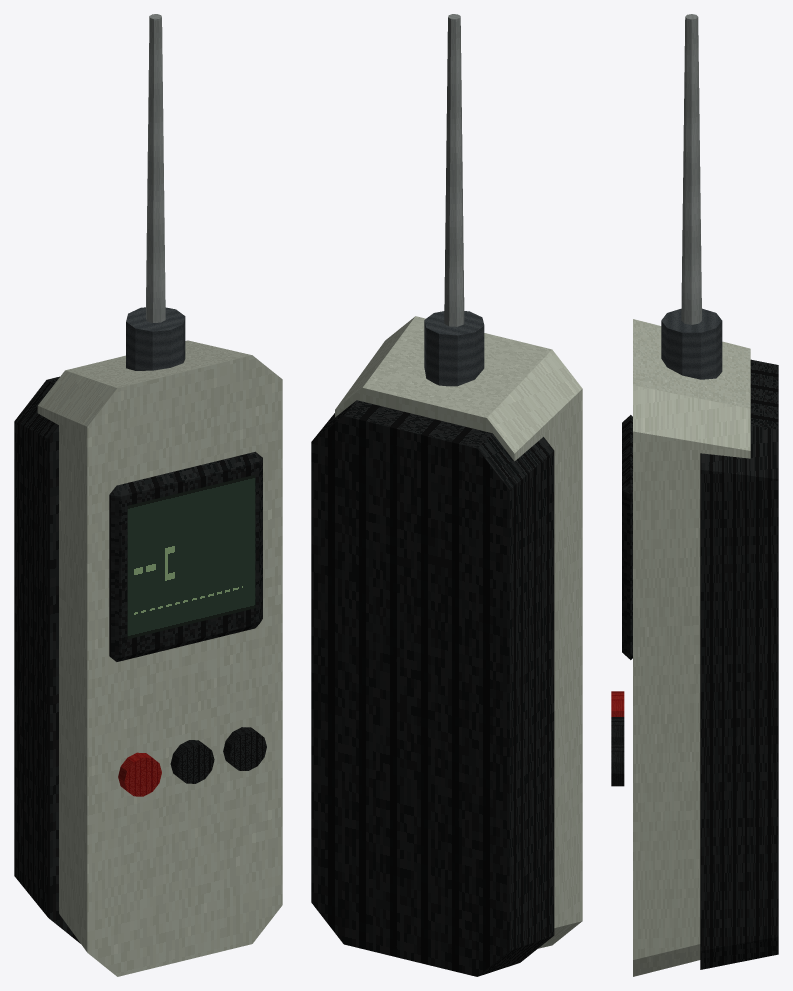
File: blender_thermometer_2.glb
3 views of the same model, side by side, from view 1: azimuth 30°, elevation 25°; view 2: azimuth 150°, elevation 25°; view 3: azimuth 270°, elevation 25° (orthographic).
Visible parts, largest first — view 1: blender_thermometer_2; view 2: blender_thermometer_2; view 3: blender_thermometer_2.
Boxes of the visible parts, x1,y1,x2,y2 form: blender_thermometer_2: (14,14,282,976); blender_thermometer_2: (311,14,582,976); blender_thermometer_2: (611,14,778,976).
Bounding box in the file's own units: 0.055 × 0.235 × 0.0385.
Materials: 6 (6 with a texture image).
